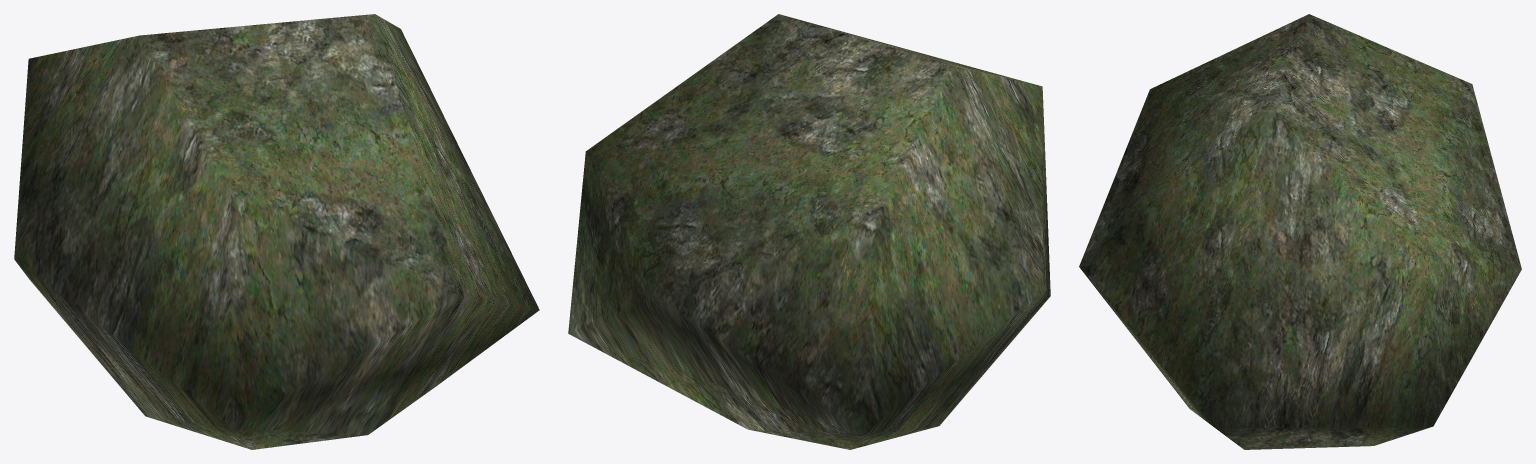
The model's file is mtns_rock_moss_a7_l2.fbx.
The picture shows the model from 3 angles, left to right: view 1: azimuth 30°, elevation 25°; view 2: azimuth 150°, elevation 25°; view 3: azimuth 270°, elevation 25°; orthographic projection. The views are drawn at different scales.
Visible parts, largest first — view 1: mesh_node; view 2: mesh_node; view 3: mesh_node.
Boxes of the visible parts, <box> form: mesh_node: <box>14,14,539,449</box>; mesh_node: <box>568,14,1050,449</box>; mesh_node: <box>1079,14,1521,449</box>.
Size of the model in its own units: 0.9569 by 0.7761 by 0.9466.
